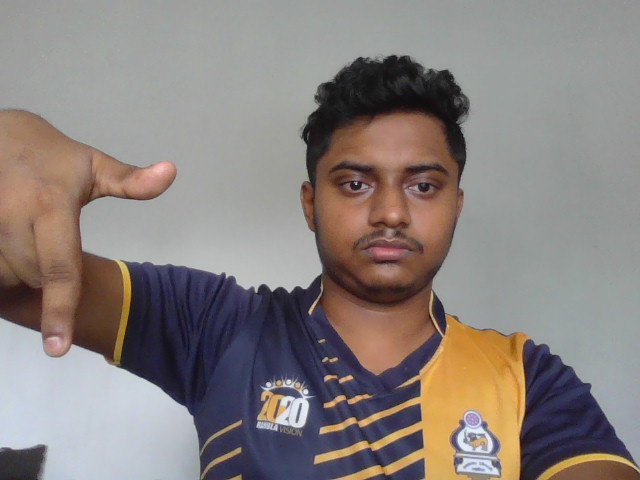Later: (1, 109, 193, 380)
